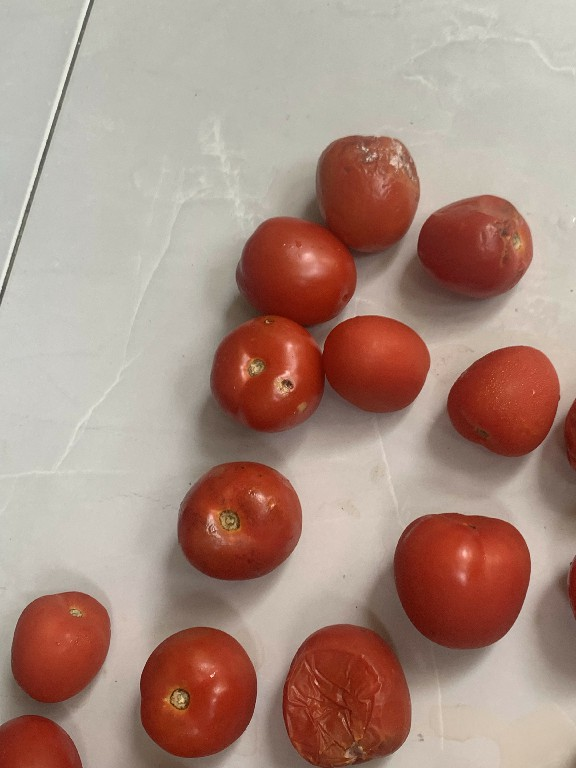NG: (275, 617, 416, 768), (206, 312, 324, 433), (312, 126, 420, 253), (415, 191, 530, 297)
OK: (392, 503, 532, 654), (134, 621, 259, 760), (173, 454, 305, 582), (229, 216, 355, 329), (442, 339, 559, 460), (8, 585, 115, 710), (323, 303, 435, 416)
